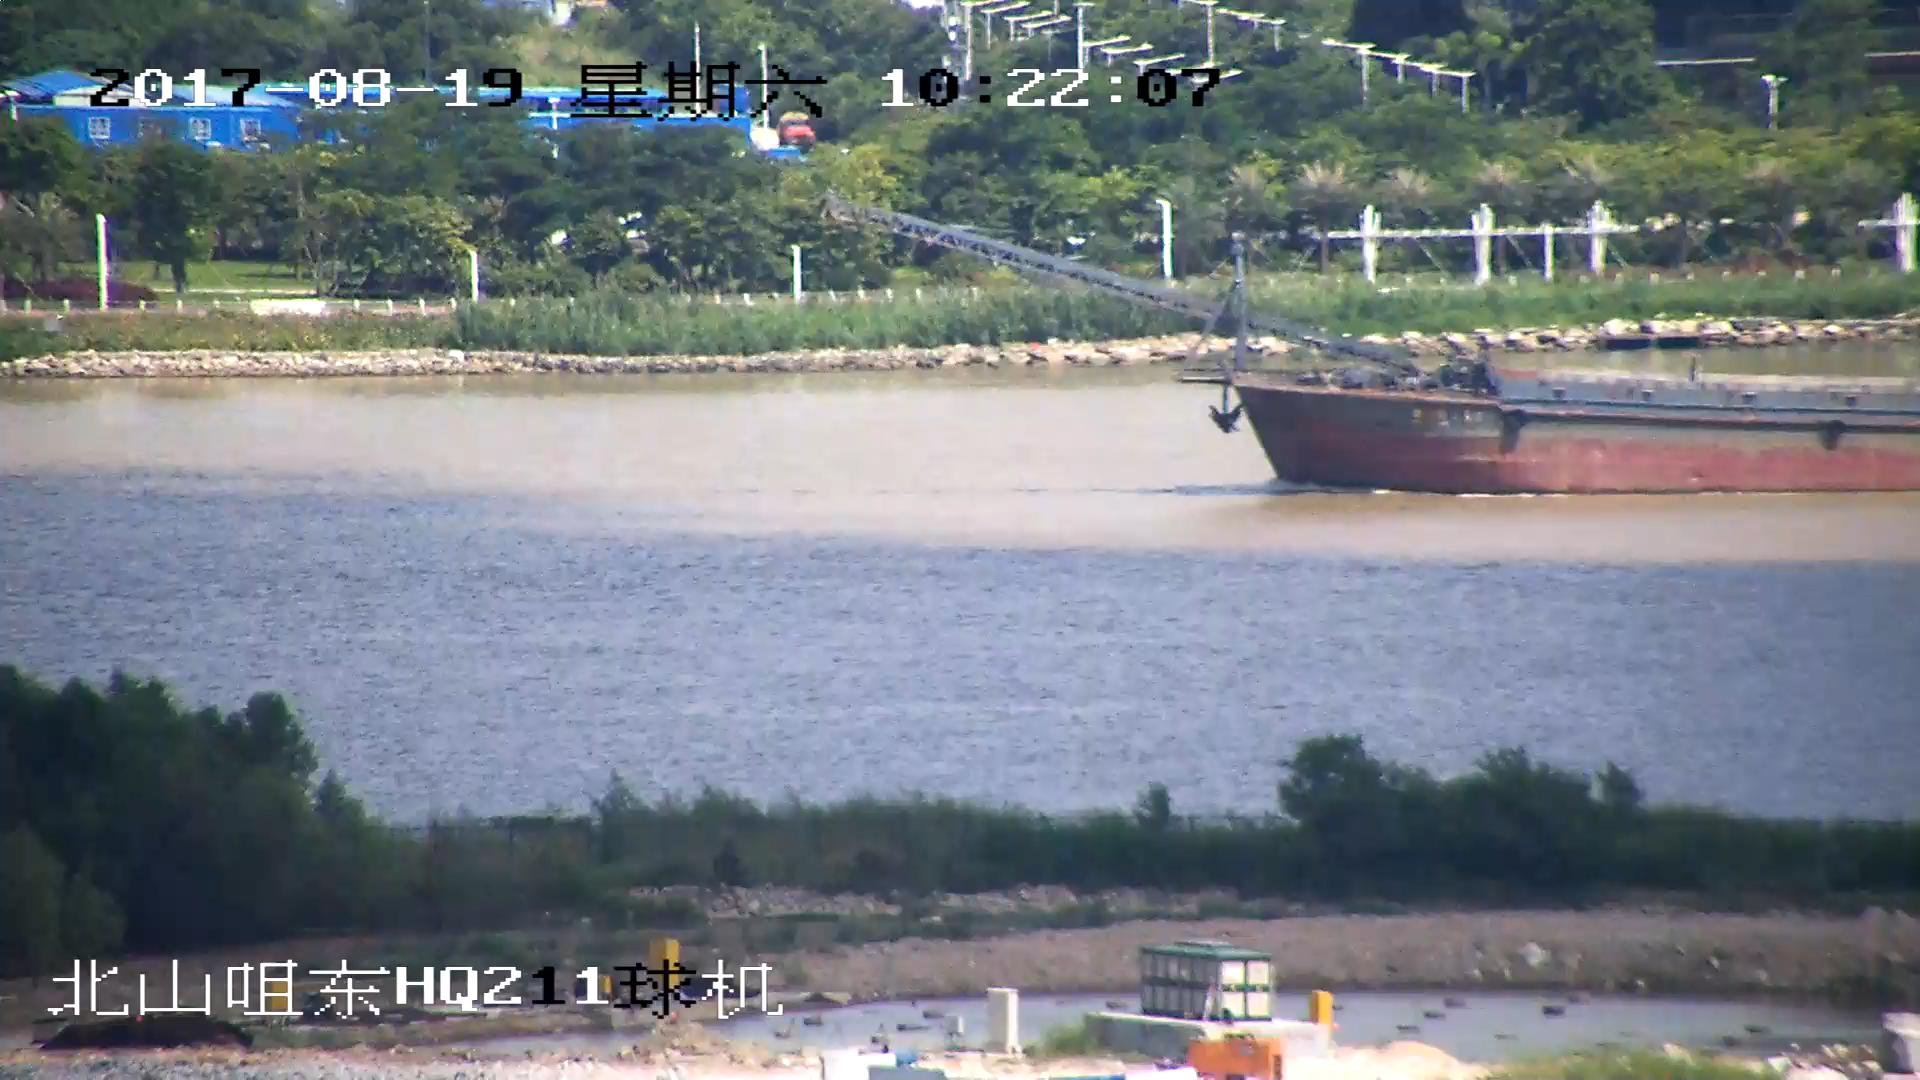bulk cargo carrier: (818, 202, 1920, 498)
